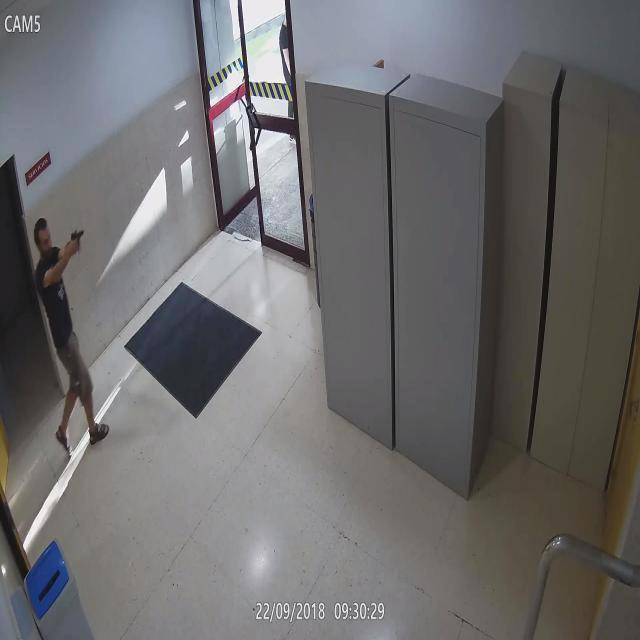weapon: (70, 231, 86, 252)
